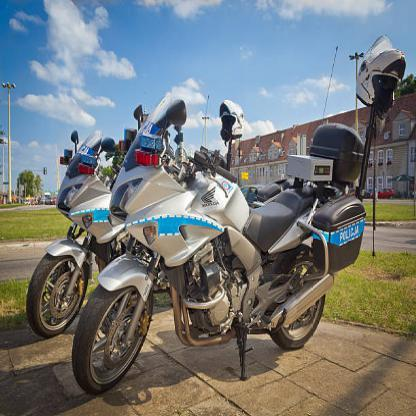Motorcycle: (74, 127, 360, 398), (44, 132, 132, 327)
